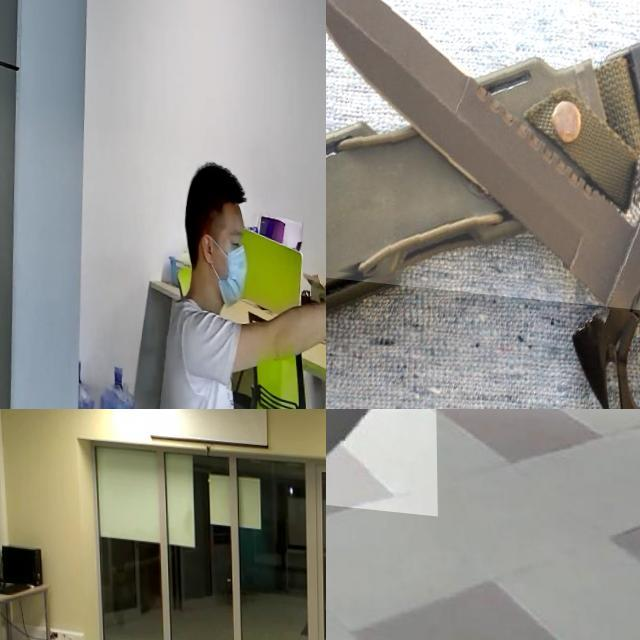-: (326, 0, 640, 301), (326, 409, 436, 509)
